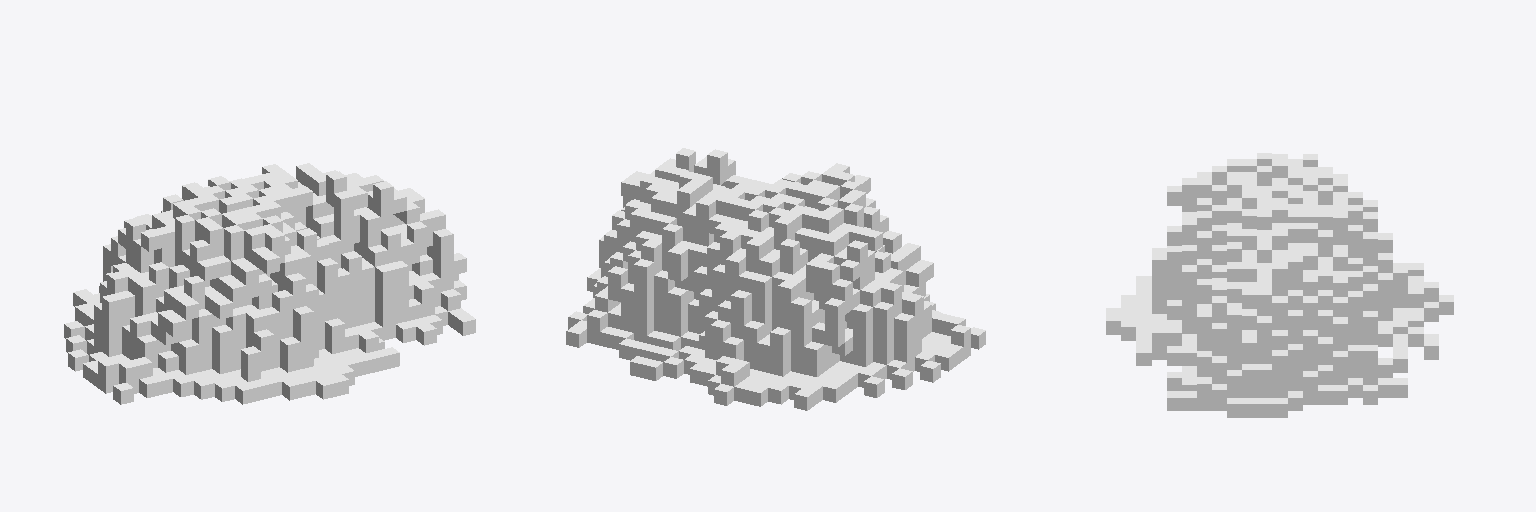
File: Piedra1.obj
3 views of the same model, side by side, from view 1: azimuth 30°, elevation 25°; view 2: azimuth 150°, elevation 25°; view 3: azimuth 270°, elevation 25° (orthographic).
Parts seen in each view (by area): view 1: object 1; view 2: object 1; view 3: object 1.
Part boxes in pixels (x1,y1,x2,y2): object 1: (64,163,475,404); object 1: (566,148,985,410); object 1: (1106,153,1453,417).
Bounding box in the file's own units: 2.7 × 1.1 × 2.3.